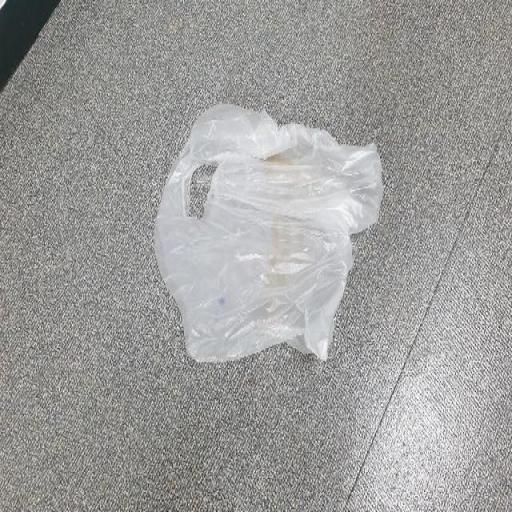plastic-bag: (150, 102, 381, 368)
